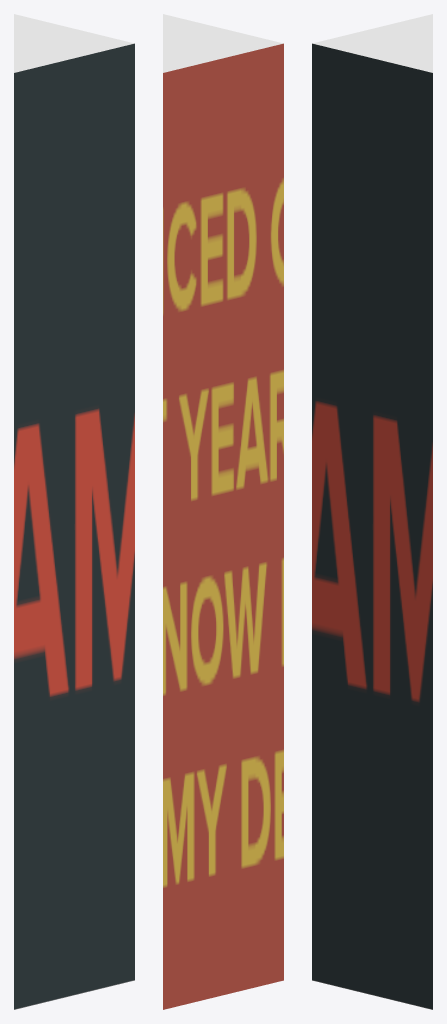
Rendered from tri6.gltf.
3 renders of one model, left to right at view 1: azimuth 30°, elevation 25°; view 2: azimuth 150°, elevation 25°; view 3: azimuth 330°, elevation 25°, orthographic.
Parts seen in each view (by area): view 1: tri6; view 2: tri6; view 3: tri6.
Boxes of the visible parts, box(x1,y1,x2,y2) form: tri6: box(14, 14, 134, 1009); tri6: box(163, 14, 283, 1009); tri6: box(312, 14, 432, 1009).
Size of the model in its own units: 1.73 by 12.82 by 1.5.
Materials: 1 (1 with a texture image).
